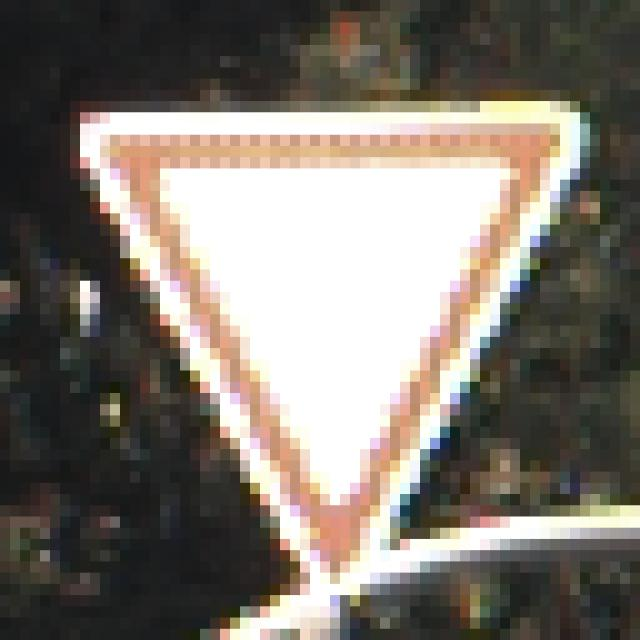Give Way: (51, 68, 581, 585)
